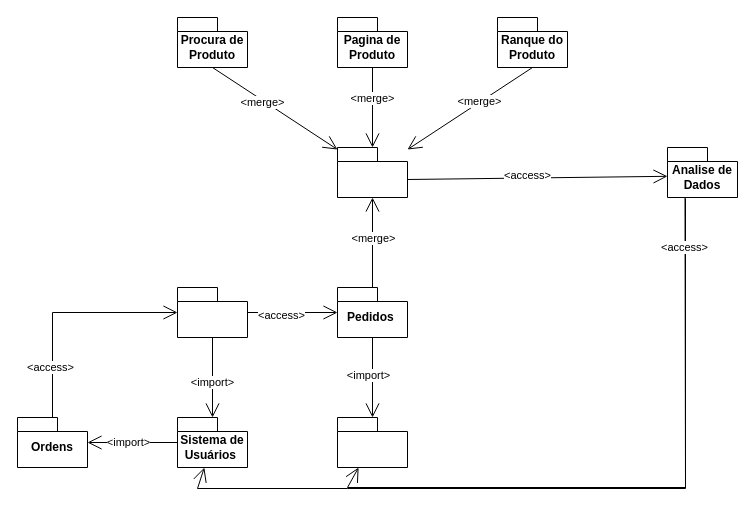
This 755x520 diagram has some shape labels left out. Here are the shapes that lost their labels. From the top down, the centre of each, then its label:
[372,172]: Pizzaria
[212,312]: Sistema de Pagamentos
[372,442]: Inventario dos Produtos
